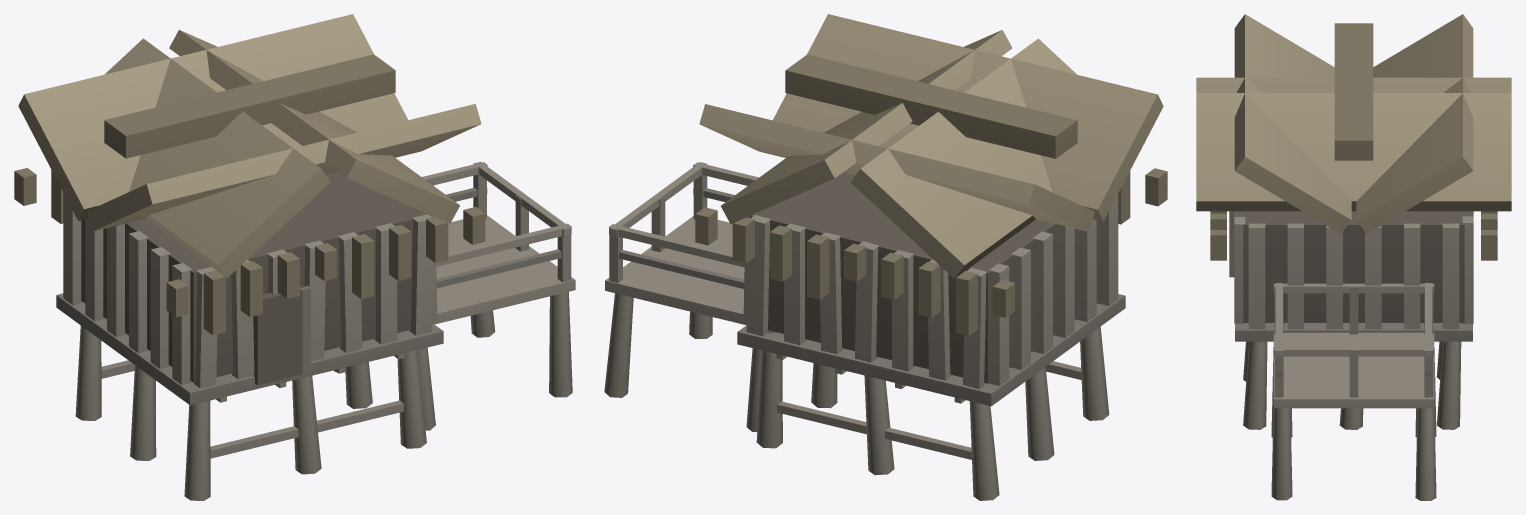
File: hut.glb
The picture shows the model from 3 angles, left to right: view 1: azimuth 30°, elevation 25°; view 2: azimuth 150°, elevation 25°; view 3: azimuth 270°, elevation 25°; orthographic projection. The views are drawn at different scales.
Parts seen in each view (by area): view 1: hut; view 2: hut; view 3: hut.
Boxes of the visible parts, x1=… form: hut: x1=14, y1=14, x2=575, y2=500; hut: x1=604, y1=14, x2=1167, y2=500; hut: x1=1196, y1=14, x2=1511, y2=500.
Size of the model in its own units: 8.29 by 5.93 by 5.7.
